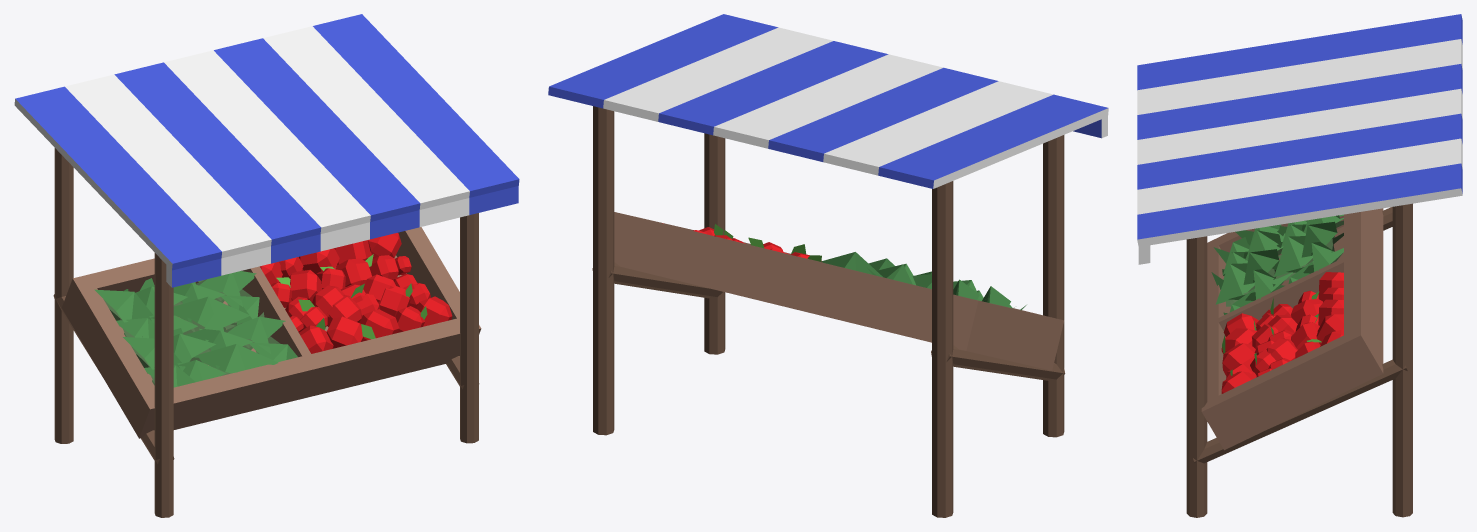
The model's file is bazaar-item-03.obj.
3 renders of one model, left to right at view 1: azimuth 30°, elevation 25°; view 2: azimuth 150°, elevation 25°; view 3: azimuth 270°, elevation 25°, orthographic. The views are drawn at different scales.
Parts seen in each view (by area): view 1: bazaar-item-03; view 2: bazaar-item-03; view 3: bazaar-item-03.
Part boxes in pixels (x1,y1,x2,y2): bazaar-item-03: [14, 14, 519, 517]; bazaar-item-03: [548, 14, 1108, 517]; bazaar-item-03: [1137, 14, 1462, 517].
Bounding box in the file's own units: 1.74 × 1.57 × 1.38.
